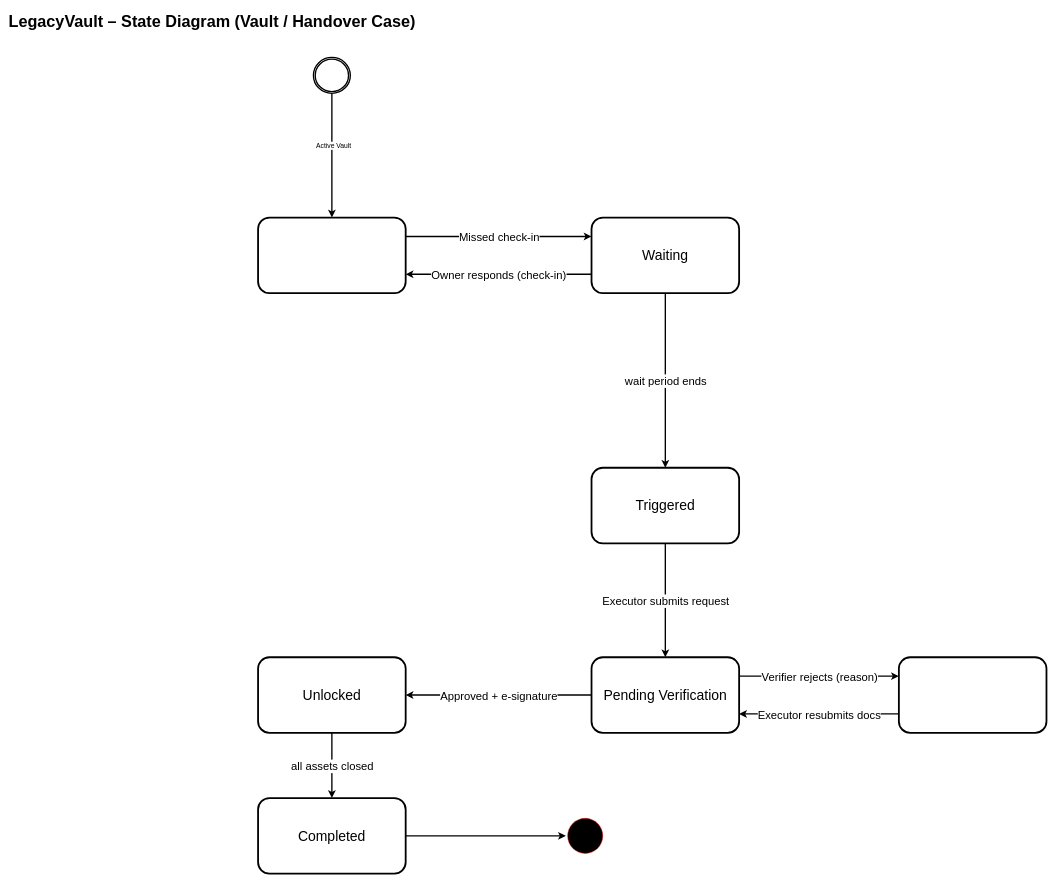
Image size: 1055x882. Some labels were removed from this diagram. The box of each missing label's shape, as (x1, y1, x2, y2) in pixels:
Active: (257, 216, 406, 294)
Rejected: (898, 656, 1047, 734)
